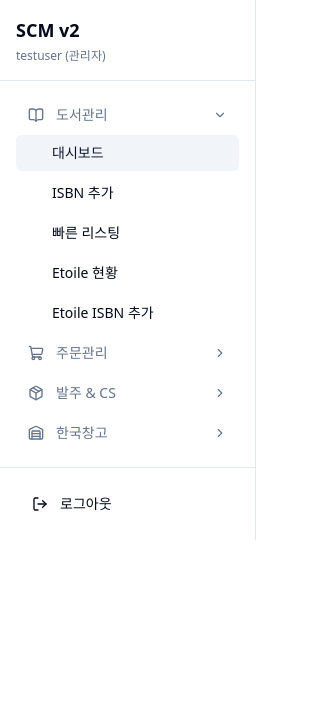
Test: Sidebar › 입고 처리 내비게이션 항목 (PurchaseOrders 탭에서 승격) › admin 역할에게도 "입고 처리" 항목이 보인다 (역할 제한 없음)
Click the button "한국창고".
click(128, 433)  # box [16,415,239,451]
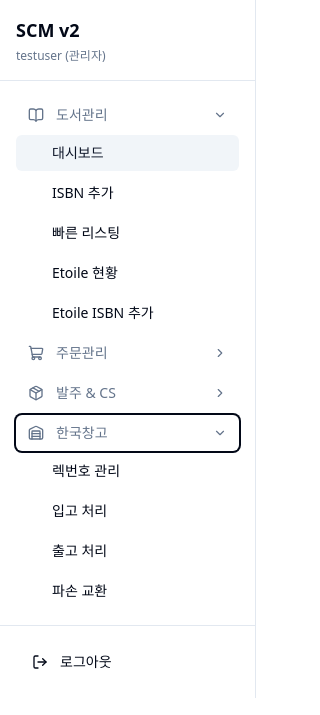
Now the link "입고 처리" is shown, box [52,501,107,520]
